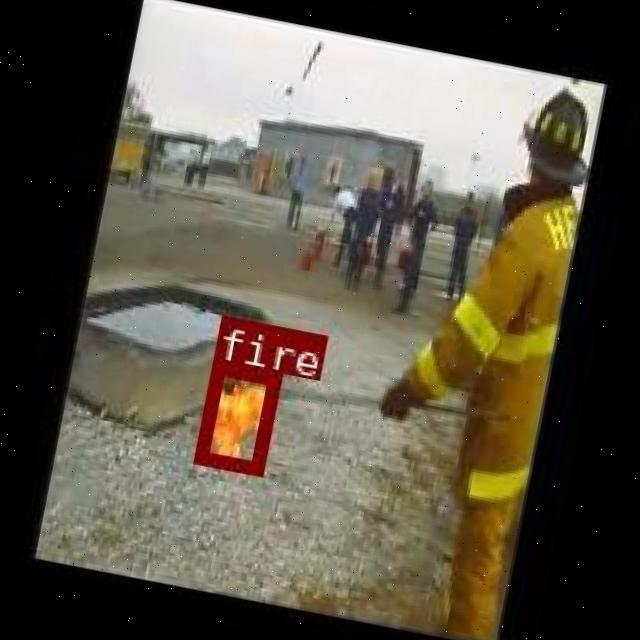fire: (192, 358, 280, 474)
